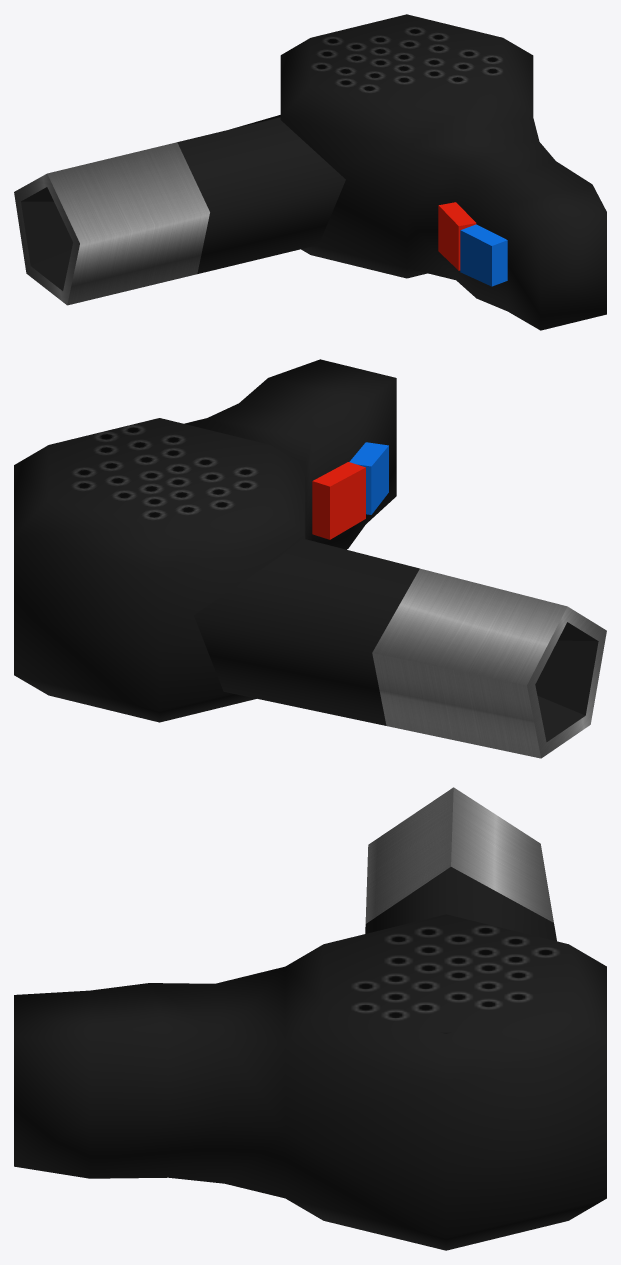
The model's file is Blow_Dryer.FBX.
3 renders of one model, top to bottom at view 1: azimuth 30°, elevation 25°; view 2: azimuth 150°, elevation 25°; view 3: azimuth 270°, elevation 25°, orthographic. The views are drawn at different scales.
Parts seen in each view (by area): view 1: Blow_Dryer; view 2: Blow_Dryer; view 3: Blow_Dryer.
Boxes of the visible parts, box(x1,y1,x2,y2) form: Blow_Dryer: box(14, 14, 606, 330); Blow_Dryer: box(14, 359, 606, 758); Blow_Dryer: box(14, 787, 606, 1250).
Bounding box in the file's own units: 86.21 × 28.99 × 71.9.
